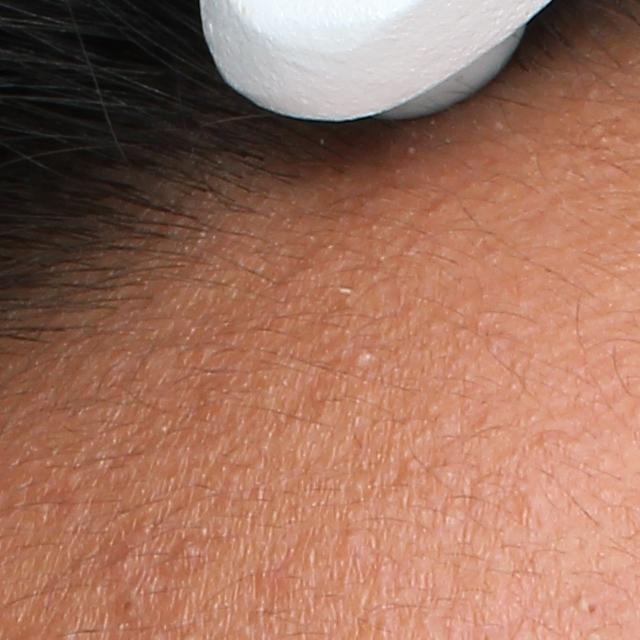comedo: (513, 484, 552, 518), (171, 529, 205, 557), (350, 343, 376, 376), (113, 596, 140, 620), (573, 596, 598, 618)
